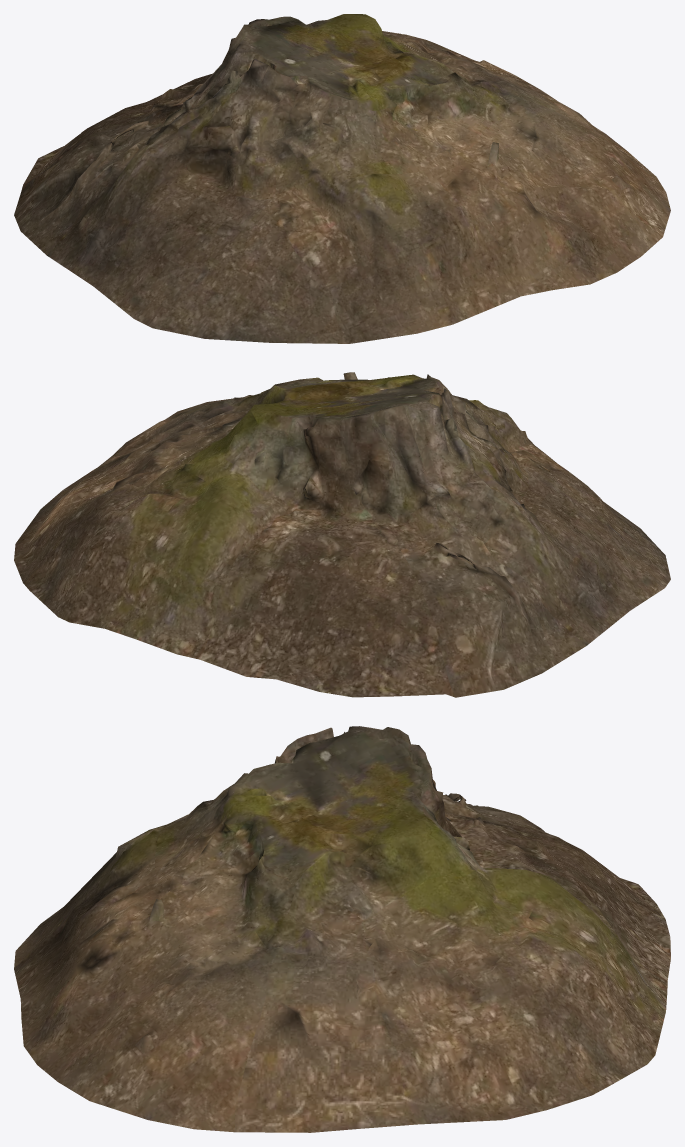
Rendered from tree_stump_02.glb.
3 views of the same model, one above another, from view 1: azimuth 30°, elevation 25°; view 2: azimuth 150°, elevation 25°; view 3: azimuth 270°, elevation 25° (orthographic). The views are drawn at different scales.
Parts seen in each view (by area): view 1: tree_stump_02; view 2: tree_stump_02; view 3: tree_stump_02.
Part boxes in pixels (x1=…): tree_stump_02: x1=14, y1=14, x2=670, y2=343; tree_stump_02: x1=14, y1=372, x2=670, y2=697; tree_stump_02: x1=14, y1=726, x2=670, y2=1132.
Size of the model in its own units: 1.52 by 0.5196 by 1.39.
1 material, 1 textured.
